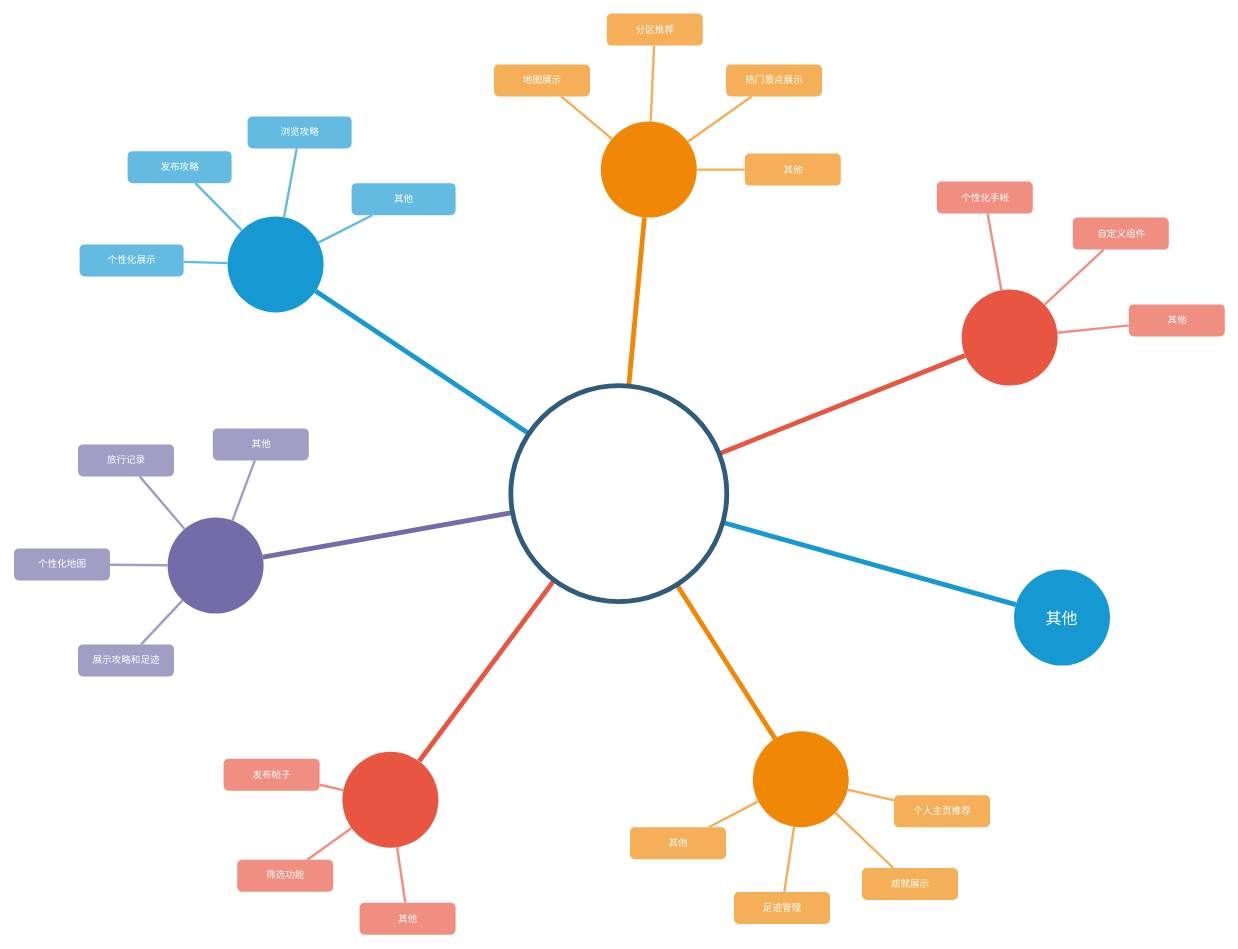
Image size: 1238x949. Some labels were removed from this diagram. Here are the shapes that lost their labels. From the top down, the centre of each, then its label:
At point 648,169: "景区展示".
At point 275,264: "攻略发布与分享".
At point 1009,337: "旅行手帐".
At point 618,493: "珞珈 行迹".
At point 215,565: "足迹地图".
At point 390,799: "驴友招募".
At point 800,779: "个性化服务".
